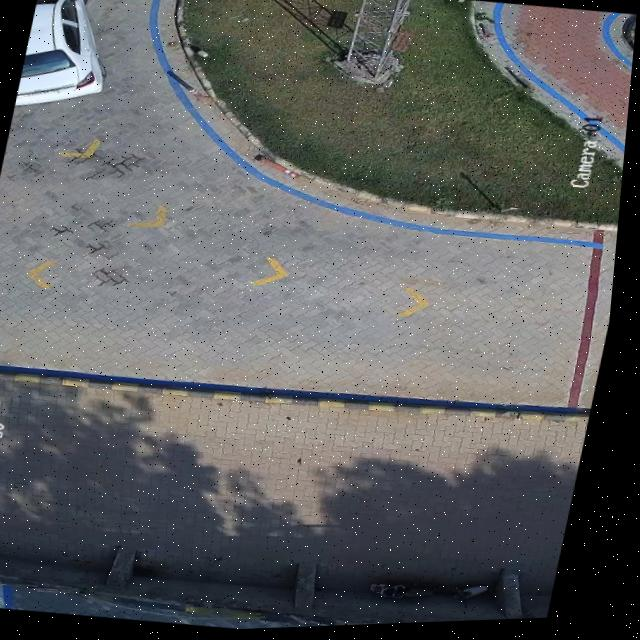car: (18, 0, 104, 102)
